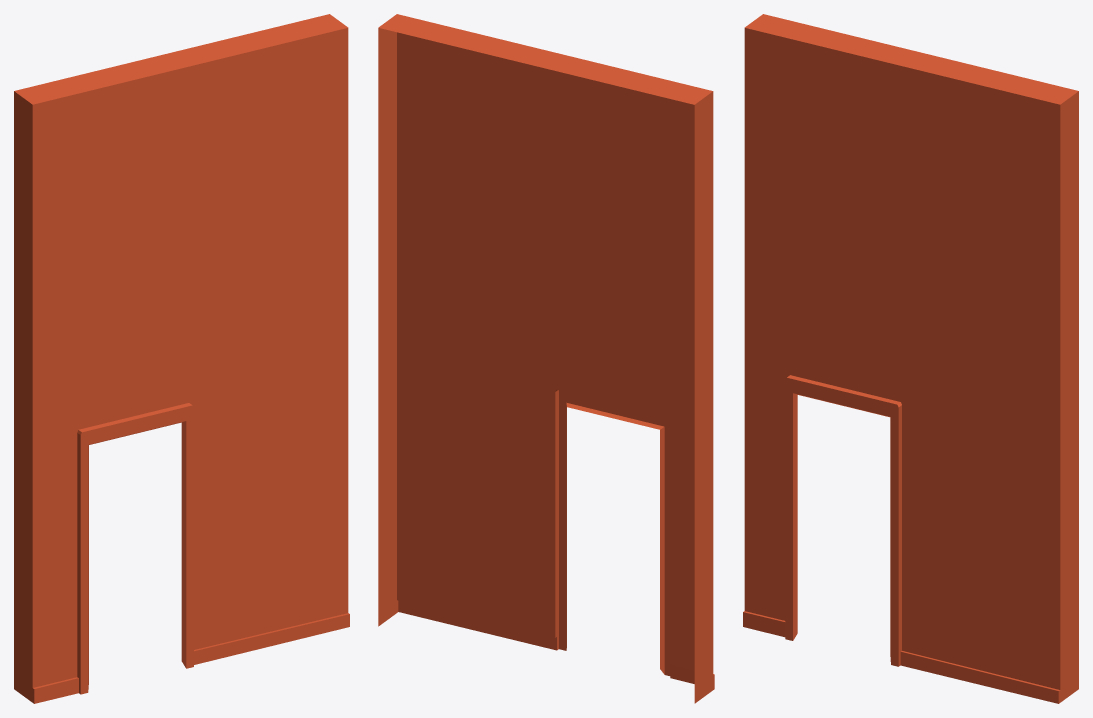
File: MurPorte.fbx
3 renders of one model, left to right at view 1: azimuth 30°, elevation 25°; view 2: azimuth 150°, elevation 25°; view 3: azimuth 330°, elevation 25°, orthographic.
Parts seen in each view (by area): view 1: Mur porte; view 2: Mur porte; view 3: Mur porte.
Part boxes in pixels (left/top/right/bottom): Mur porte: left=14, top=14, right=349, bottom=703; Mur porte: left=378, top=14, right=714, bottom=703; Mur porte: left=743, top=14, right=1078, bottom=703.
Bounding box in the file's own units: 300 × 543 × 36.58.
